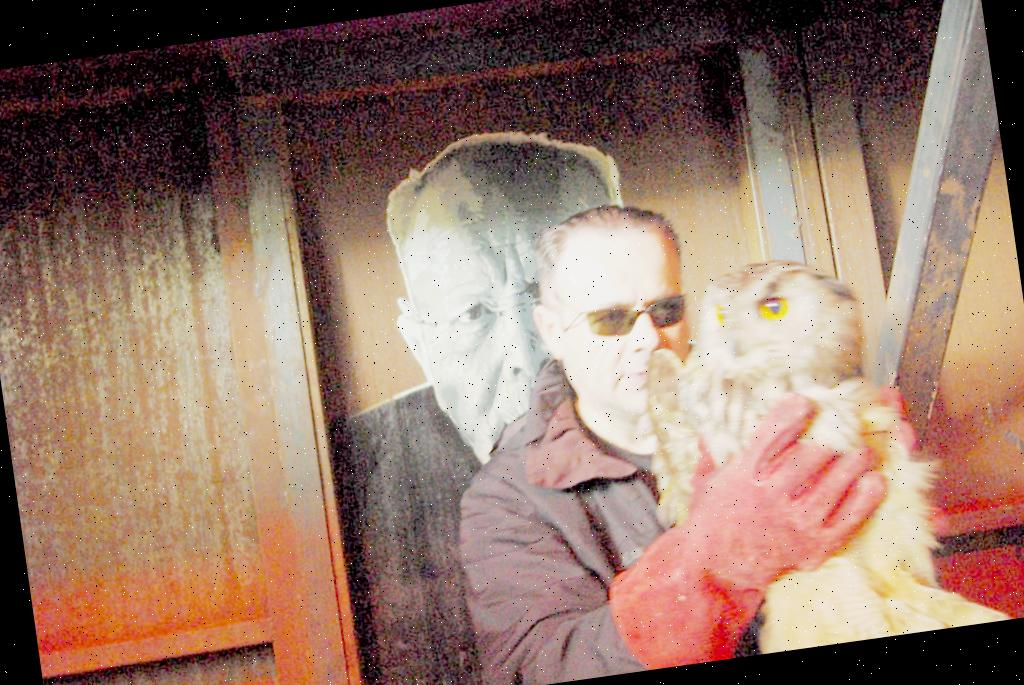Owl: (622, 231, 1008, 665)
